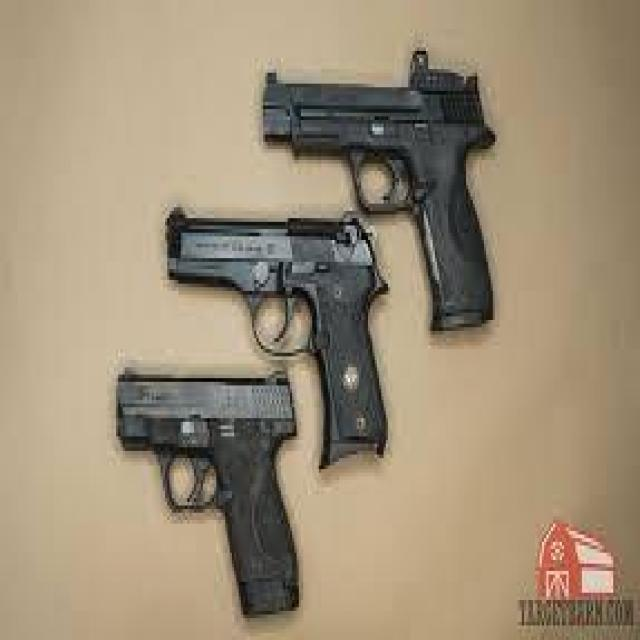gun: (263, 51, 497, 335), (165, 207, 388, 473), (114, 371, 301, 622)
